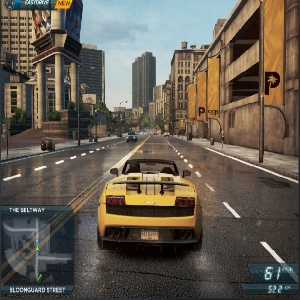ad: (31, 12, 51, 44)
building: (168, 43, 218, 132), (75, 45, 109, 131), (130, 51, 156, 128)
garbage: (39, 137, 57, 153)
tree: (155, 113, 165, 135)
vehicle: (126, 129, 140, 143), (152, 130, 171, 137), (138, 133, 148, 137)
